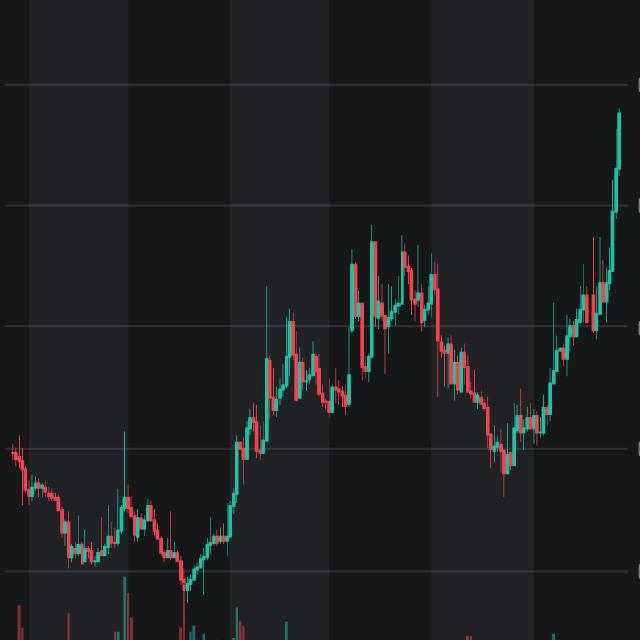Resistance-breakout: (343, 109, 627, 476)
